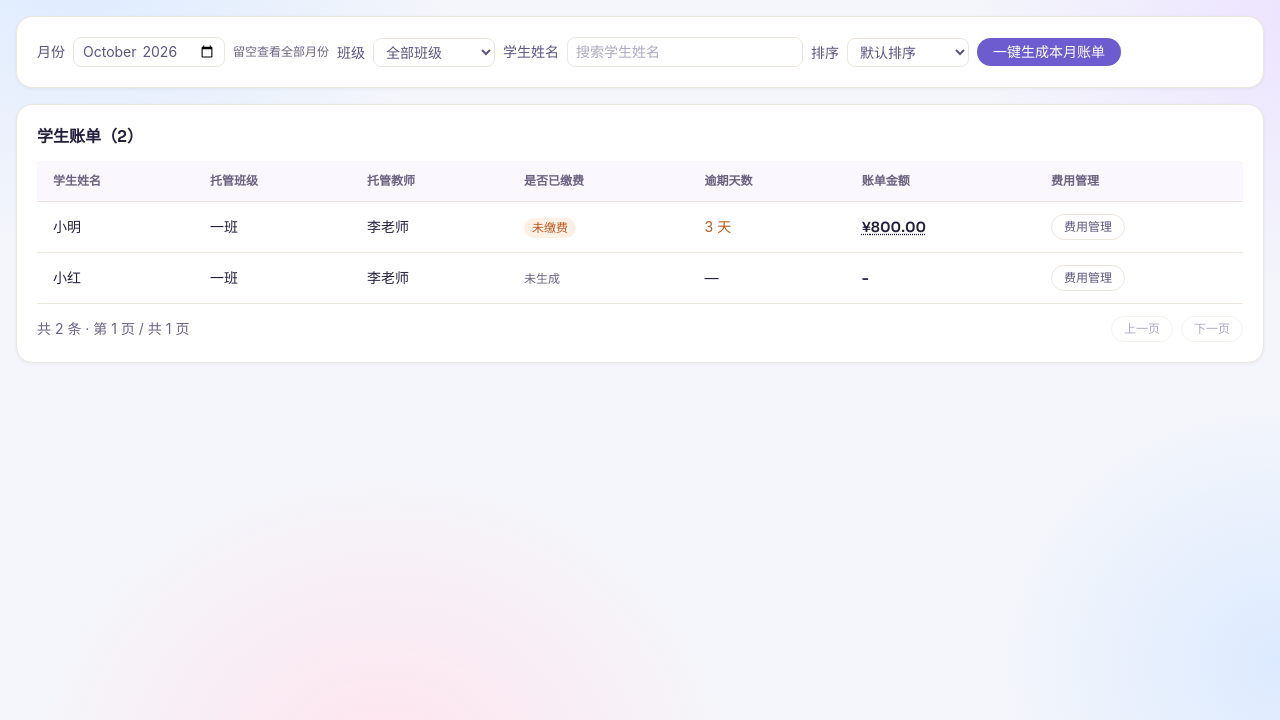
Scenario: AdminBillingModule › shows an error when loading bill detail fails
Expected: the text "小明" is shown, [37, 202, 194, 252]
Click the button "¥800.00".
click(894, 227)  # box [862, 217, 926, 237]
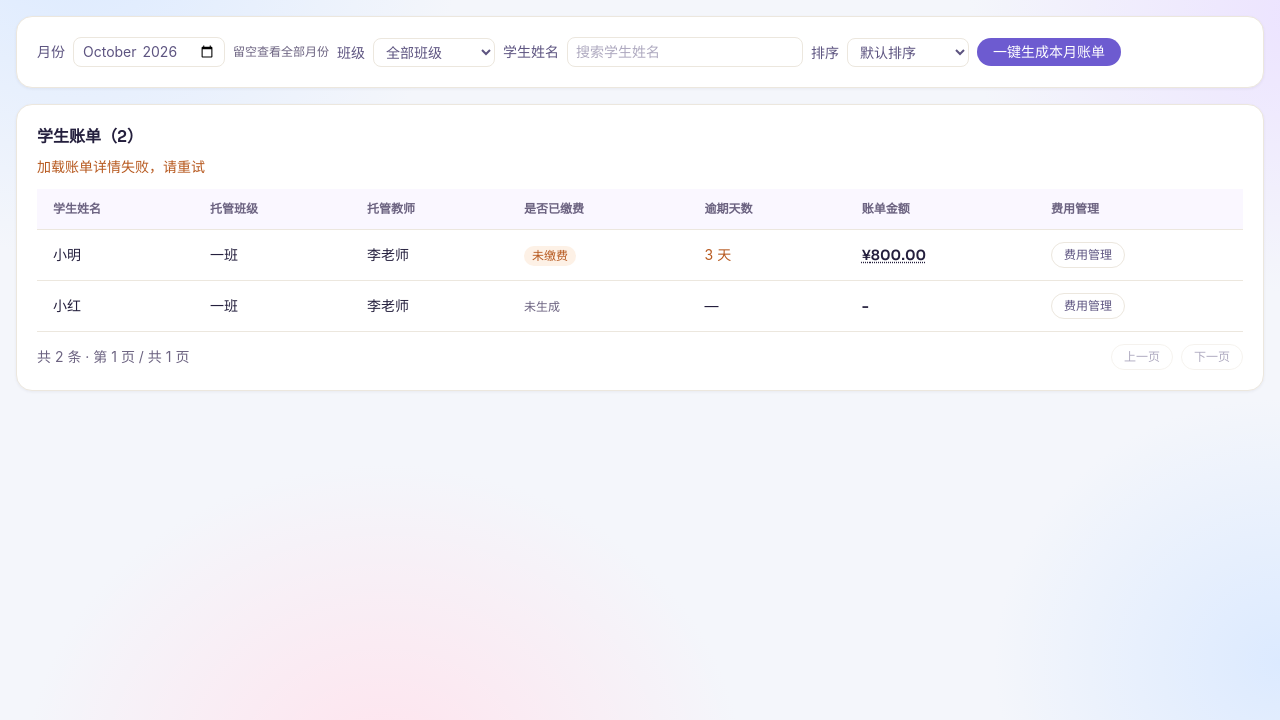
Expected: the text "加载账单详情失败，请重试" is shown, [37, 158, 205, 175]
